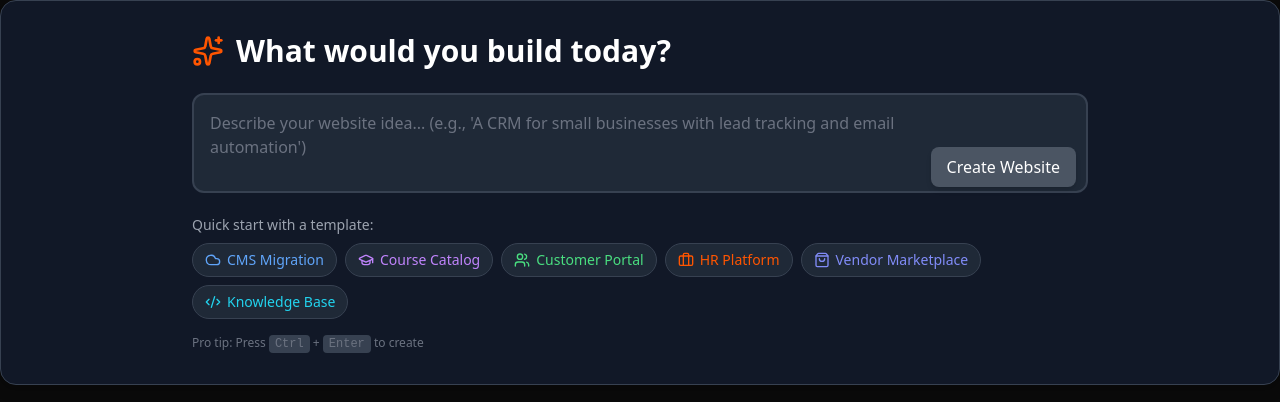
Test: WebsiteCreator › should show loading state during creation
Type "Test prompt" into the text box with placeholder "Describe your website idea" at {"x": 640, "y": 143}, box top-left (192, 93), bottom-right (1088, 193)
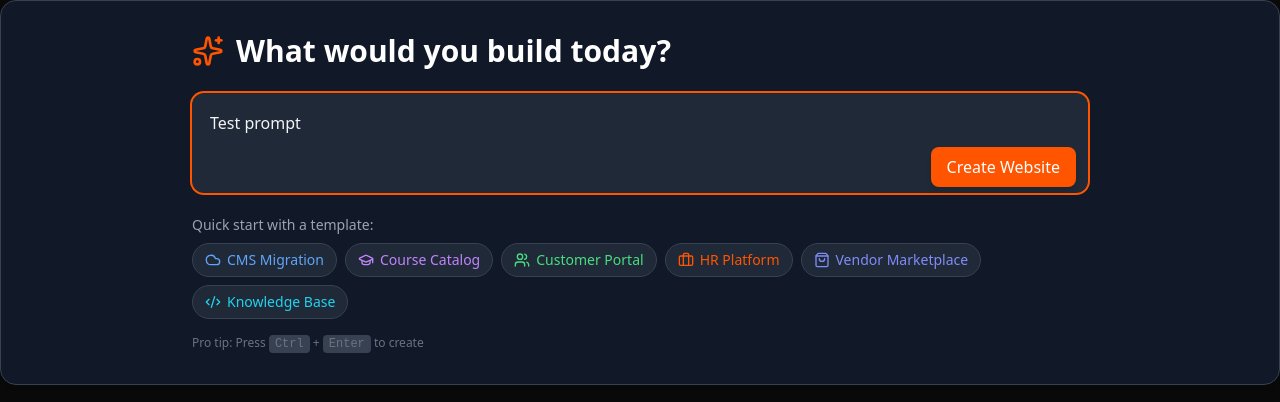
Click the button "Create Website" at {"x": 1003, "y": 167}, box top-left (931, 147), bottom-right (1076, 187)
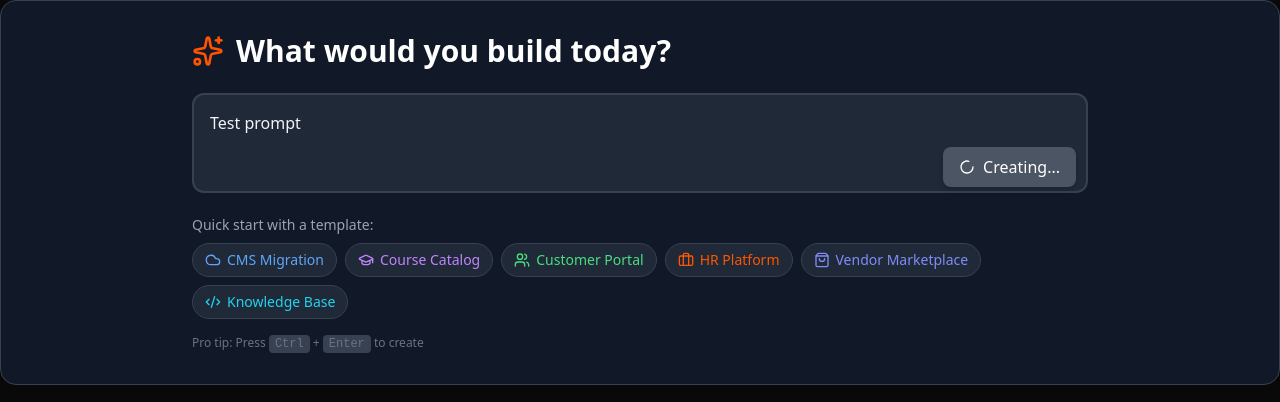
Check: the text "Creating..." is shown, box top-left (983, 155), bottom-right (1060, 179)
